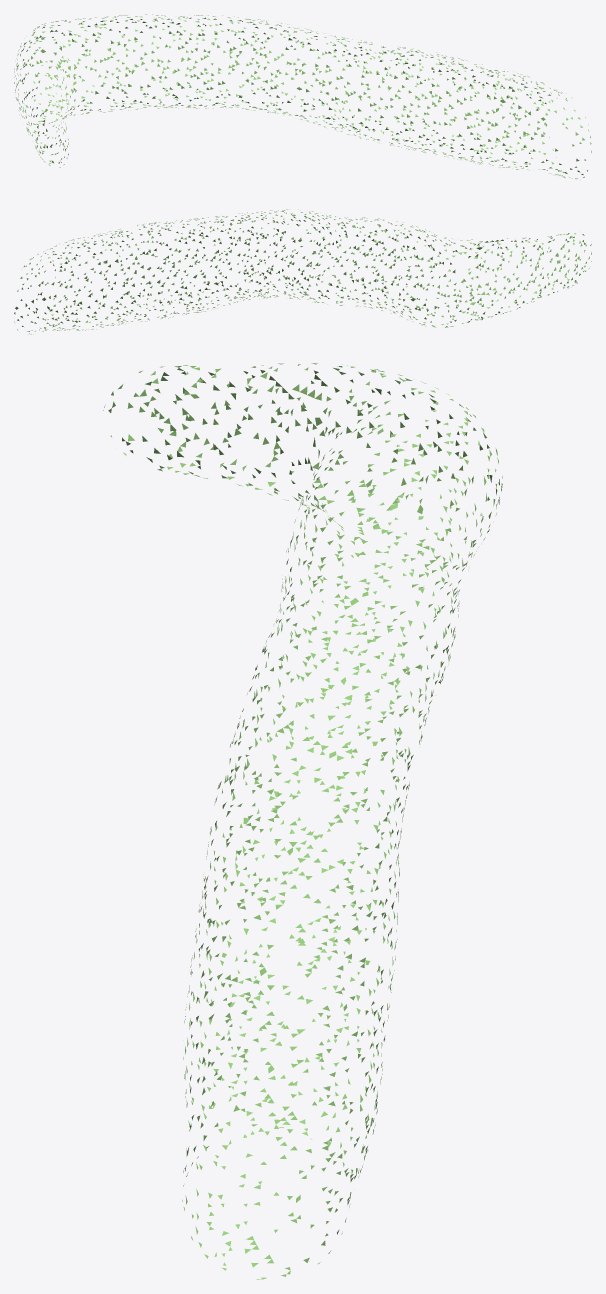
Rendered from morph_014.glb.
3 renders of one model, top to bottom at view 1: azimuth 30°, elevation 25°; view 2: azimuth 150°, elevation 25°; view 3: azimuth 270°, elevation 25°, orthographic. The views are drawn at different scales.
Bounding box in the file's own units: 119 × 48.54 × 39.2.
